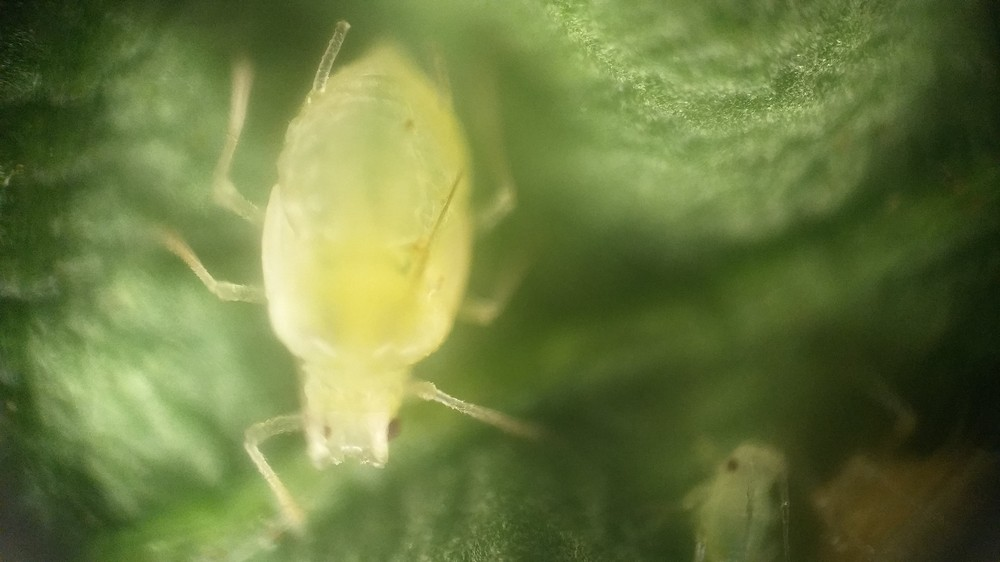Pulgon: (164, 33, 565, 533), (652, 407, 805, 558)
